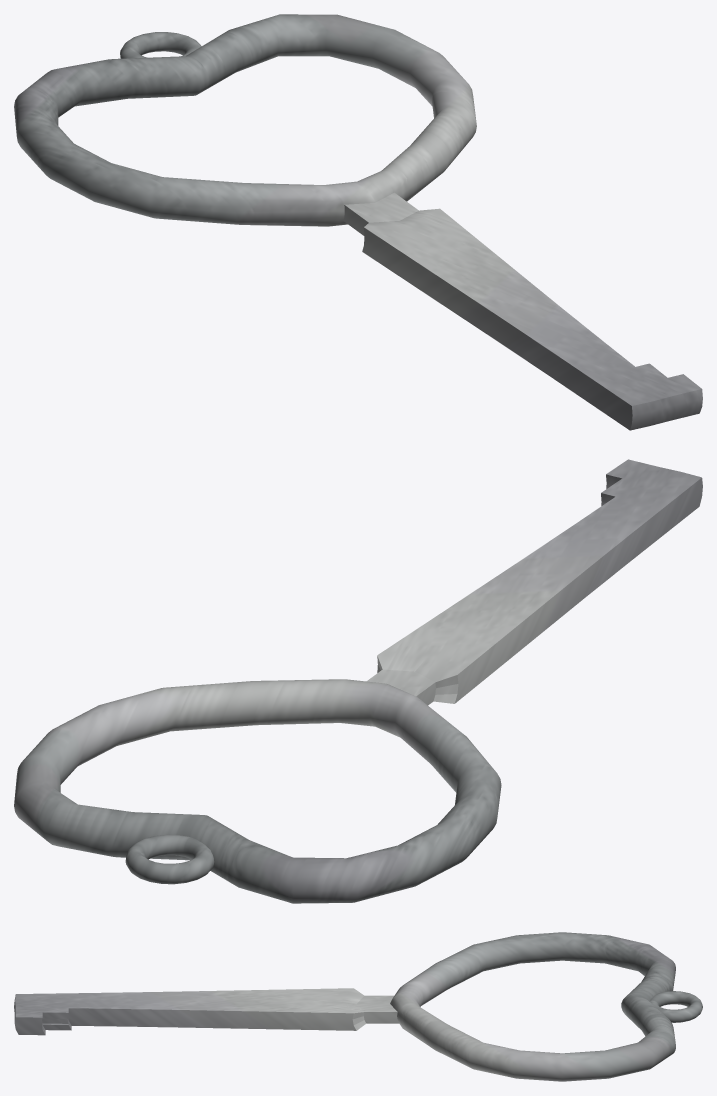
Rendered from Key.fbx.
The picture shows the model from 3 angles, top to bottom: view 1: azimuth 30°, elevation 25°; view 2: azimuth 150°, elevation 25°; view 3: azimuth 270°, elevation 25°; orthographic projection. The views are drawn at different scales.
Visible parts, largest first — view 1: pTorus3; view 2: pTorus3; view 3: pTorus3.
Part boxes in pixels (left/top/right/bottom): pTorus3: left=14, top=14, right=702, bottom=430; pTorus3: left=14, top=459, right=702, bottom=903; pTorus3: left=14, top=932, right=702, bottom=1081.
Bounding box in the file's own units: 2.2 × 0.2 × 4.81.
